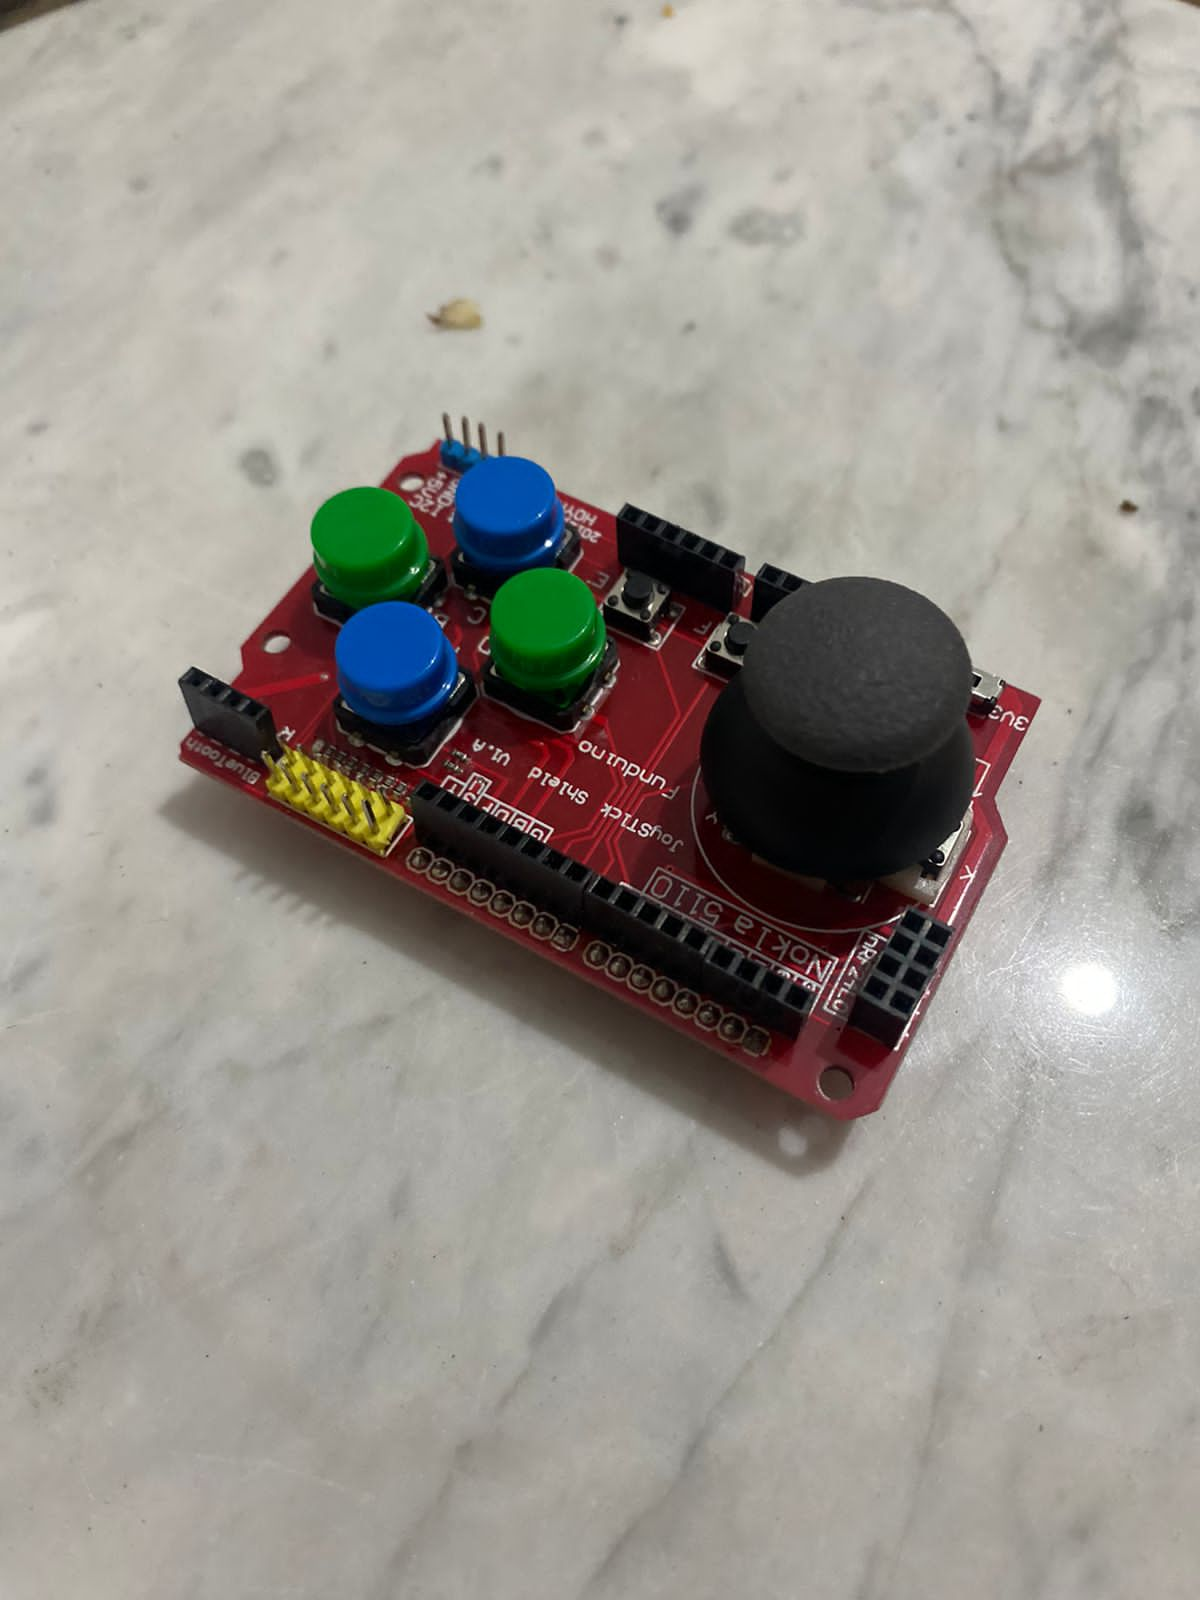Clavier-Joystick: (166, 404, 1053, 1116)
